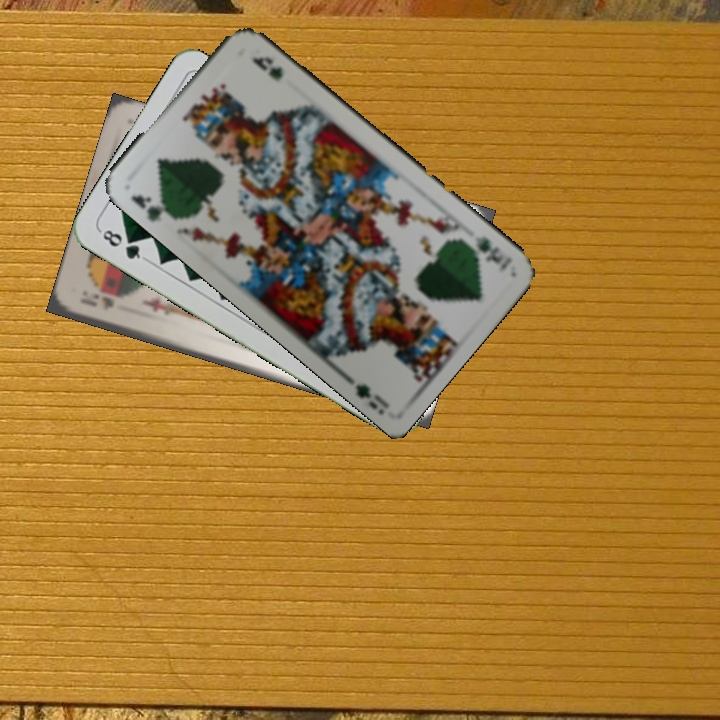G8: (96, 225, 149, 263)
GK: (458, 232, 515, 275), (126, 190, 174, 225)
SK: (75, 289, 117, 313)
